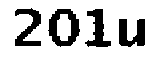0: (47, 5, 80, 51)
1: (83, 5, 111, 50)
2: (8, 4, 45, 53)
u: (114, 15, 152, 55)
